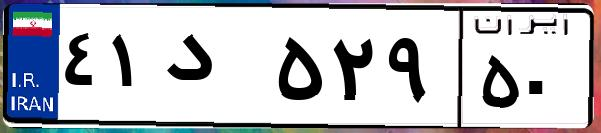0: (525, 38, 570, 115)
1: (110, 28, 158, 98)
2: (330, 28, 385, 110)
4: (57, 26, 110, 100)
5: (270, 28, 330, 110), (475, 38, 525, 113)
9: (385, 28, 445, 110)
د: (158, 20, 270, 120)
